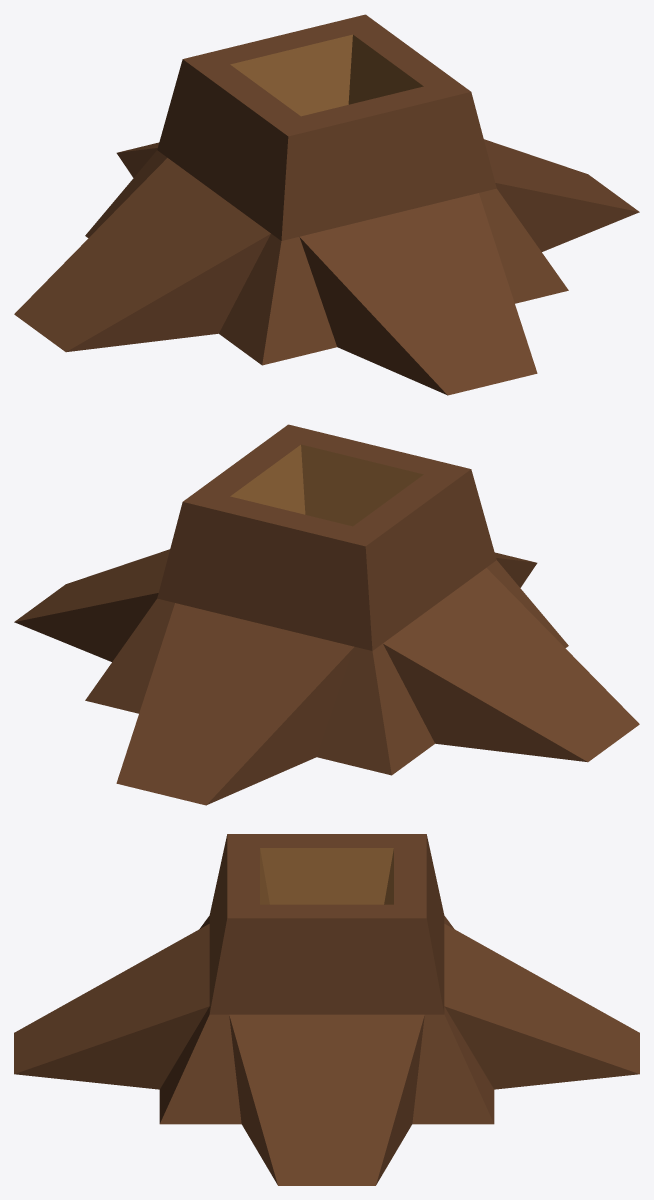
Rendered from stump_square_detailed_wide.glb.
The picture shows the model from 3 angles, top to bottom: view 1: azimuth 30°, elevation 25°; view 2: azimuth 150°, elevation 25°; view 3: azimuth 270°, elevation 25°; orthographic projection. The views are drawn at different scales.
Visible parts, largest first — view 1: stump_squareDetailedWide; view 2: stump_squareDetailedWide; view 3: stump_squareDetailedWide.
Boxes of the visible parts, <box> form: stump_squareDetailedWide: <box>14,14,639,395</box>; stump_squareDetailedWide: <box>14,424,639,805</box>; stump_squareDetailedWide: <box>14,834,639,1185</box>.
Bounding box in the file's own units: 0.64 × 0.2 × 0.64.
